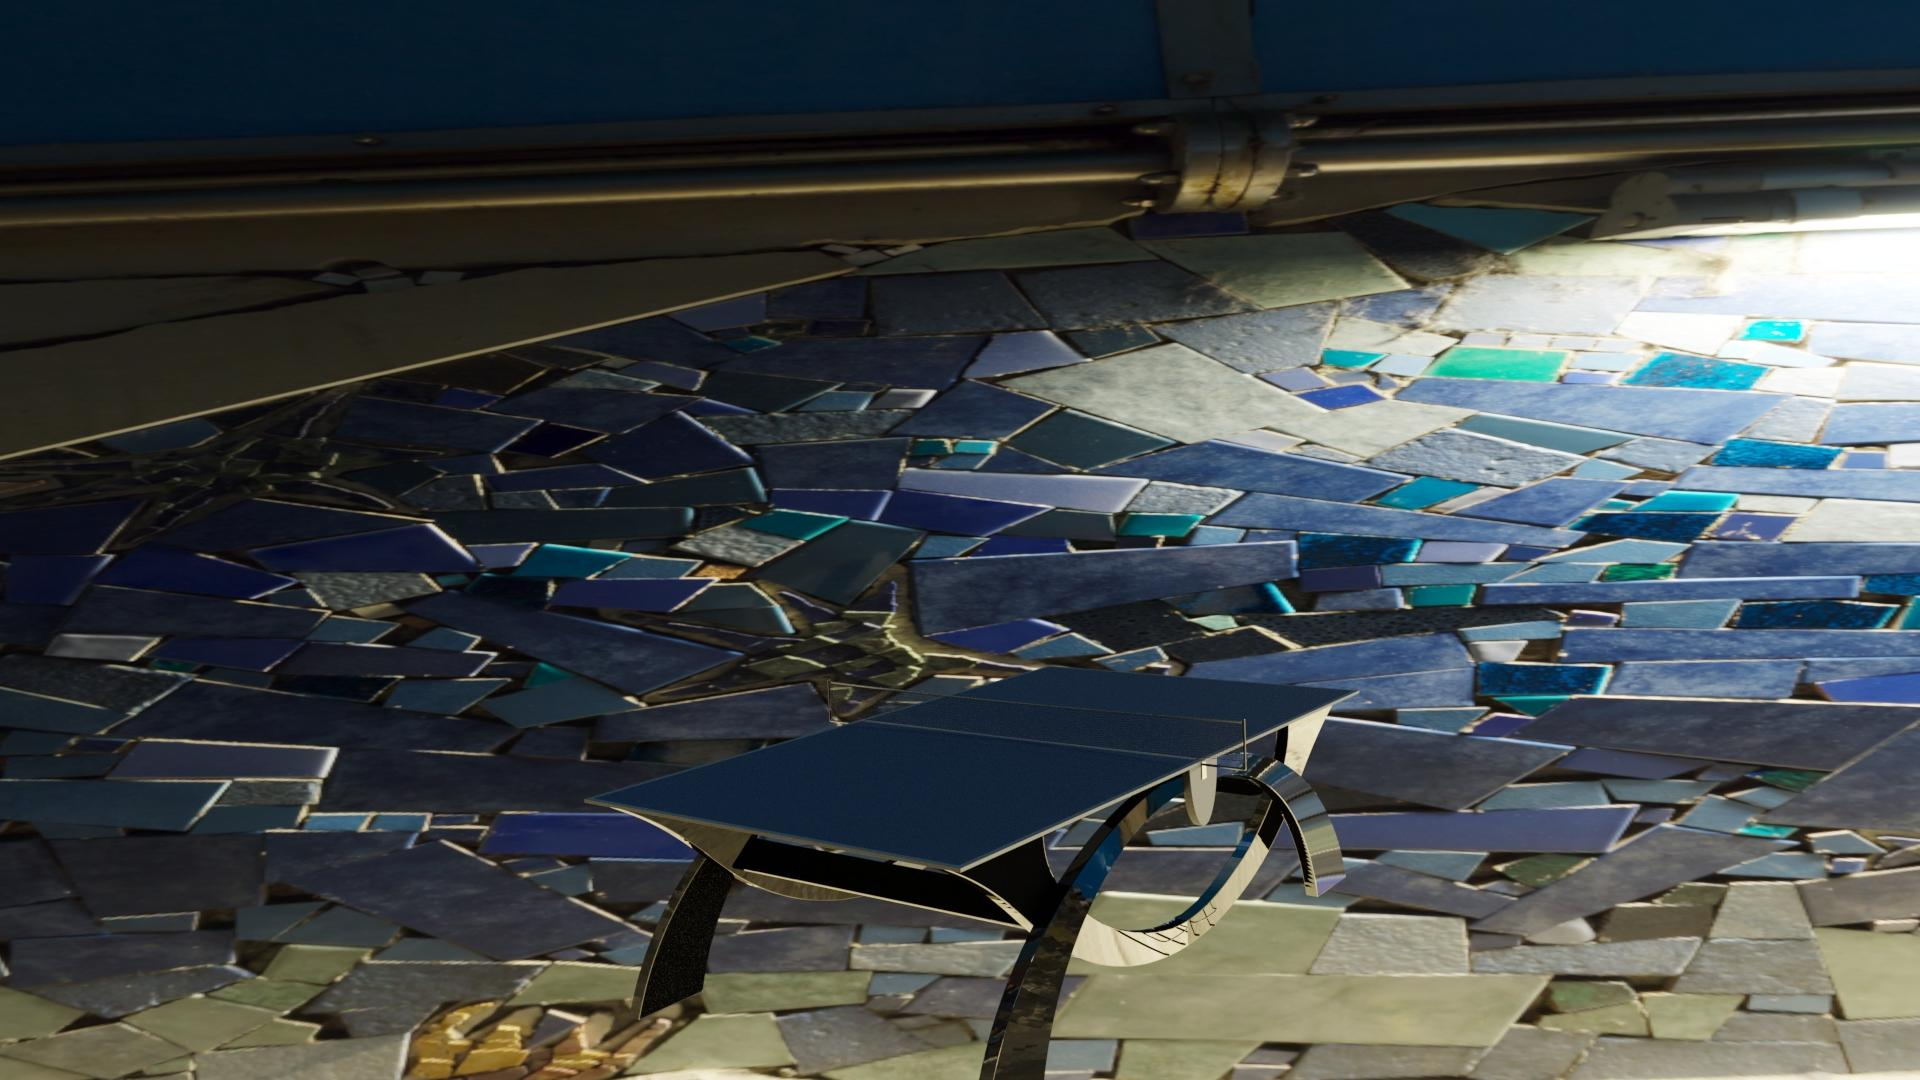table: (593, 667, 1353, 865)
